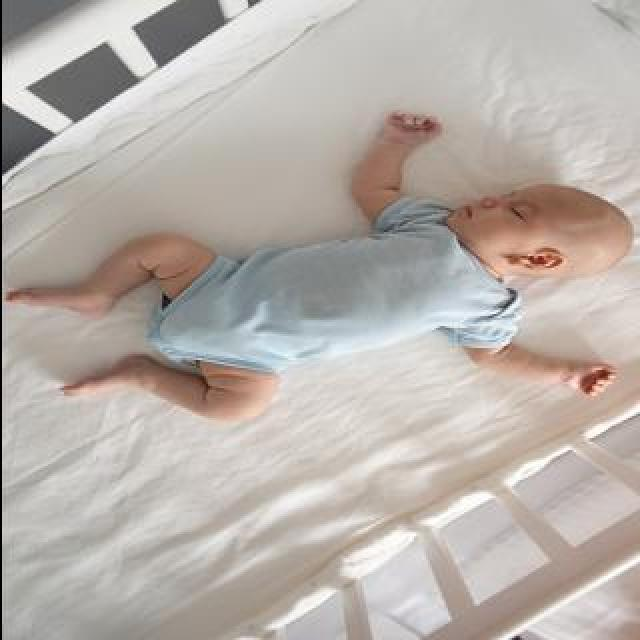baby: (6, 115, 638, 423)
